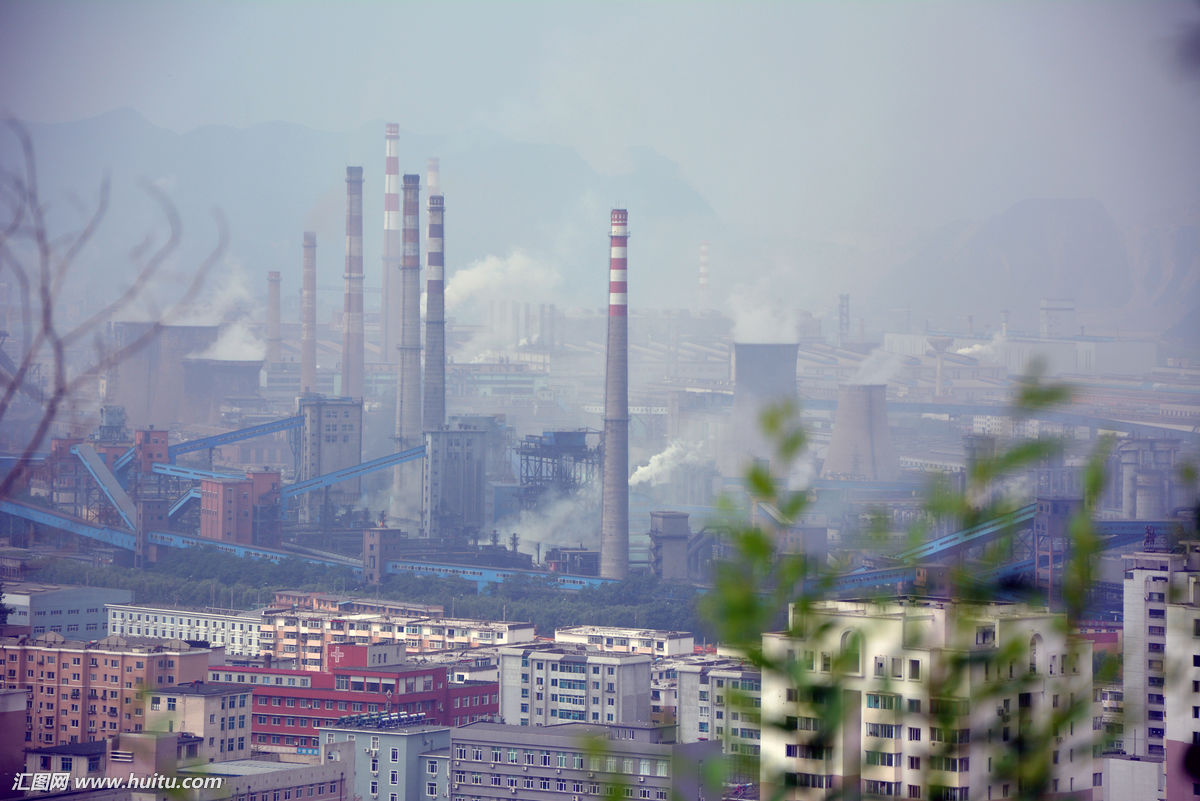dust: (413, 254, 567, 321), (179, 307, 284, 373), (838, 322, 925, 392), (624, 434, 710, 497)
